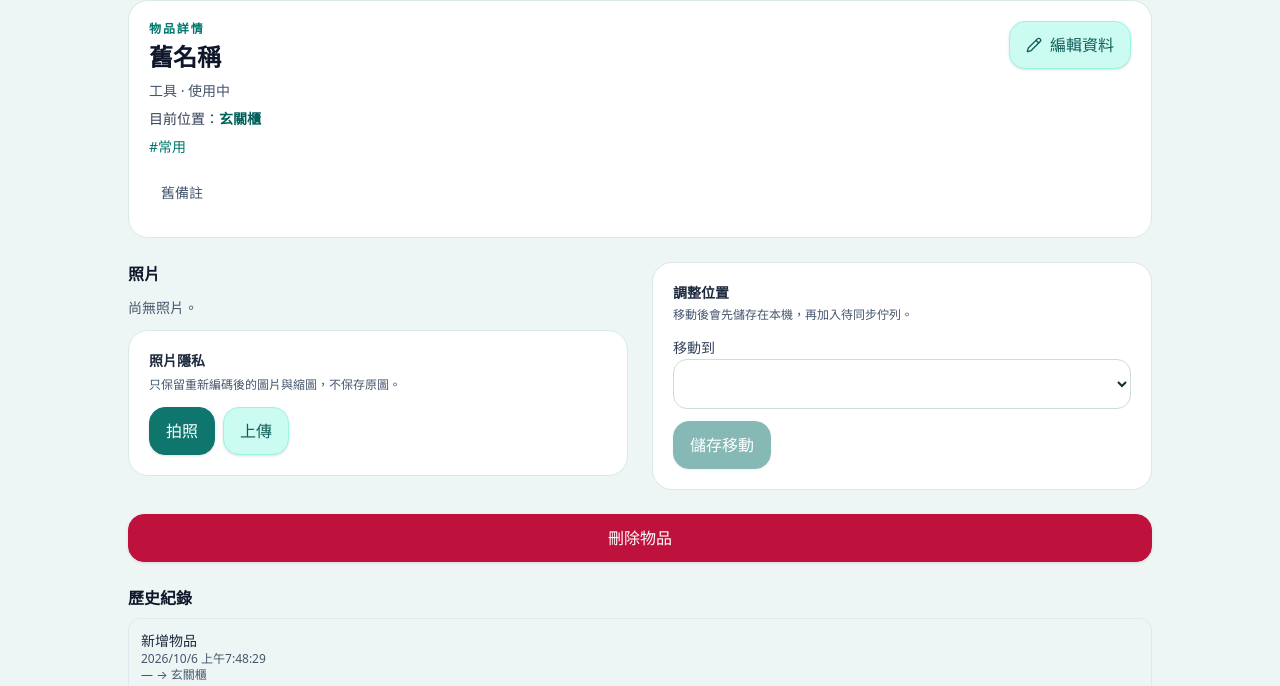
Test: item detail editing › opens populated fields and saves updated basic information
This screenshot has width=1280, height=686.
Check: the heading "舊名稱" is shown, box [149,41,221,73]
Click the button "編輯資料" at x=1070, y=45, box [1009,21,1131,69]
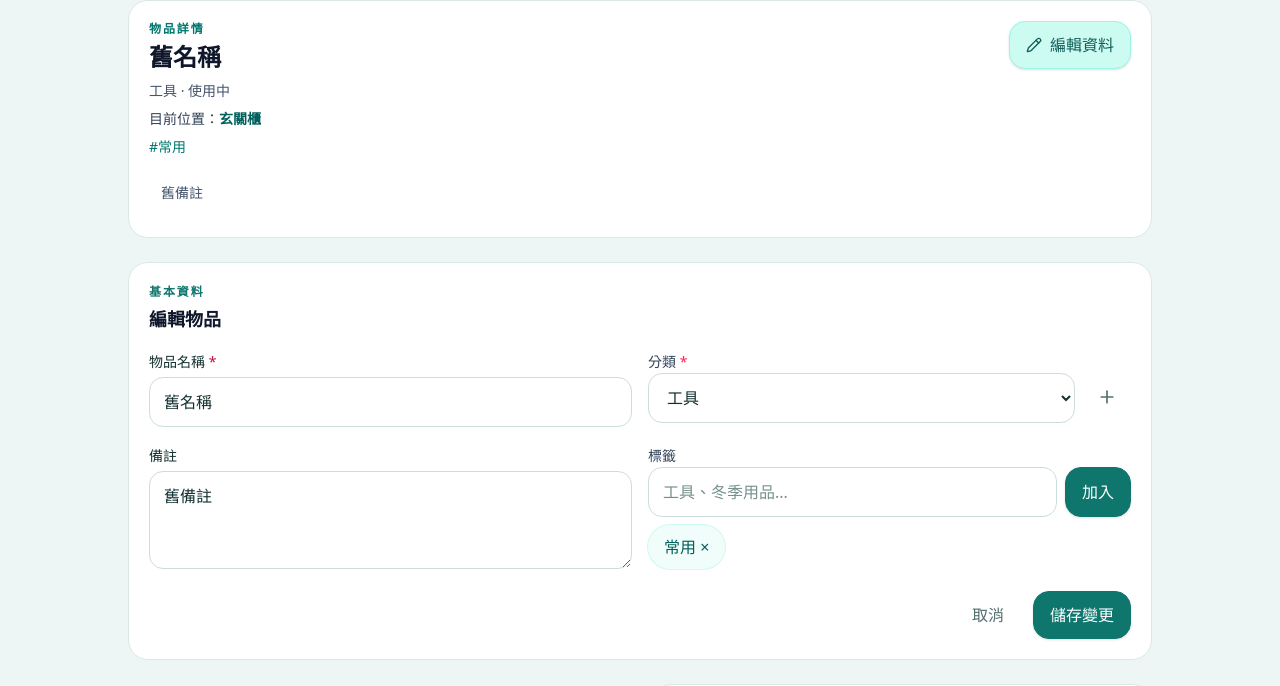
Check: the field labelled "物品名稱 *" holds "舊名稱"
Check: the dropdown labelled "分類 *" shows "工具", box [648,373,1075,423]
Replace the text in the field labelled "物品名稱 *" with "新名稱" at x=390, y=402, box [149,377,632,427]
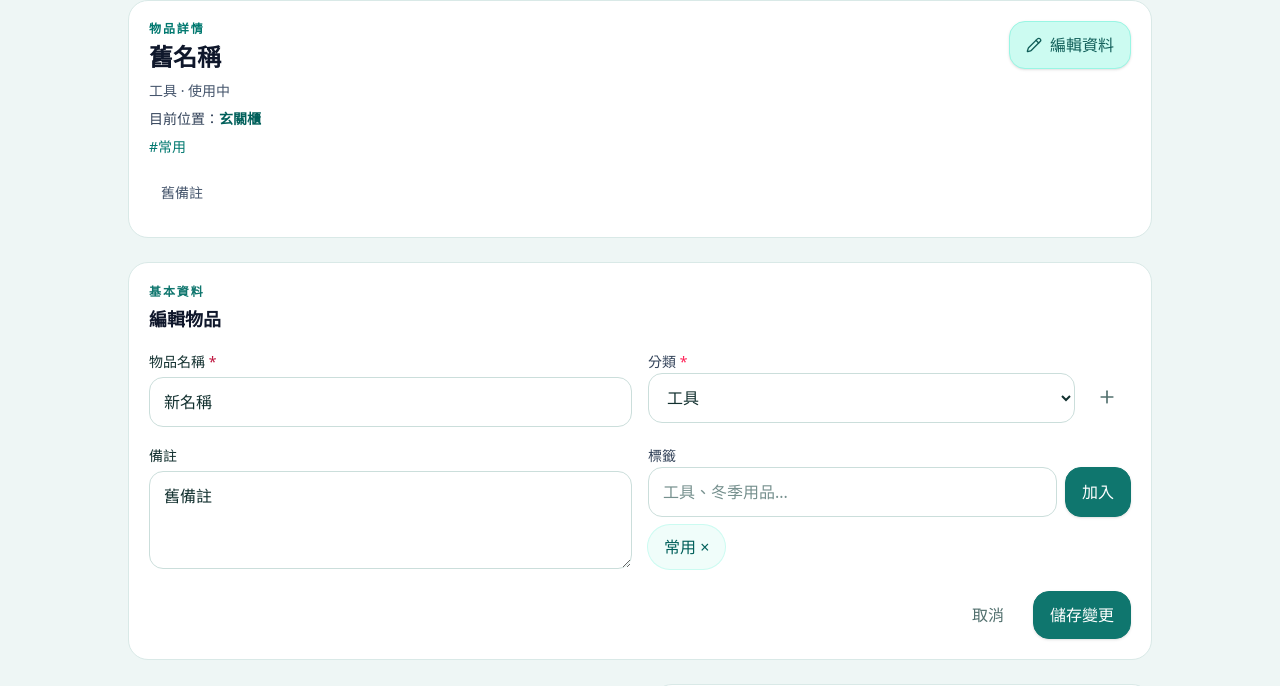
Replace the text in the text box labelled "備註" with "新備註" at x=390, y=520, box [149,471,632,569]
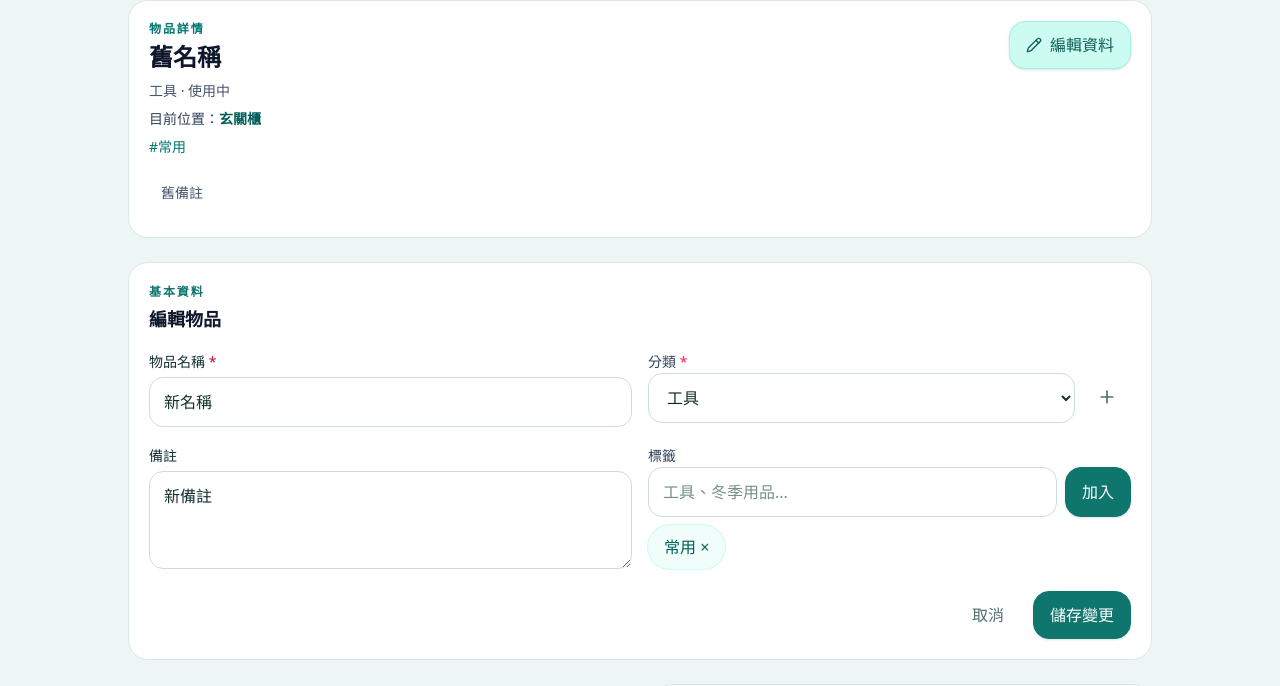
Click the button "儲存變更" at x=1082, y=615, box [1033,591,1131,639]
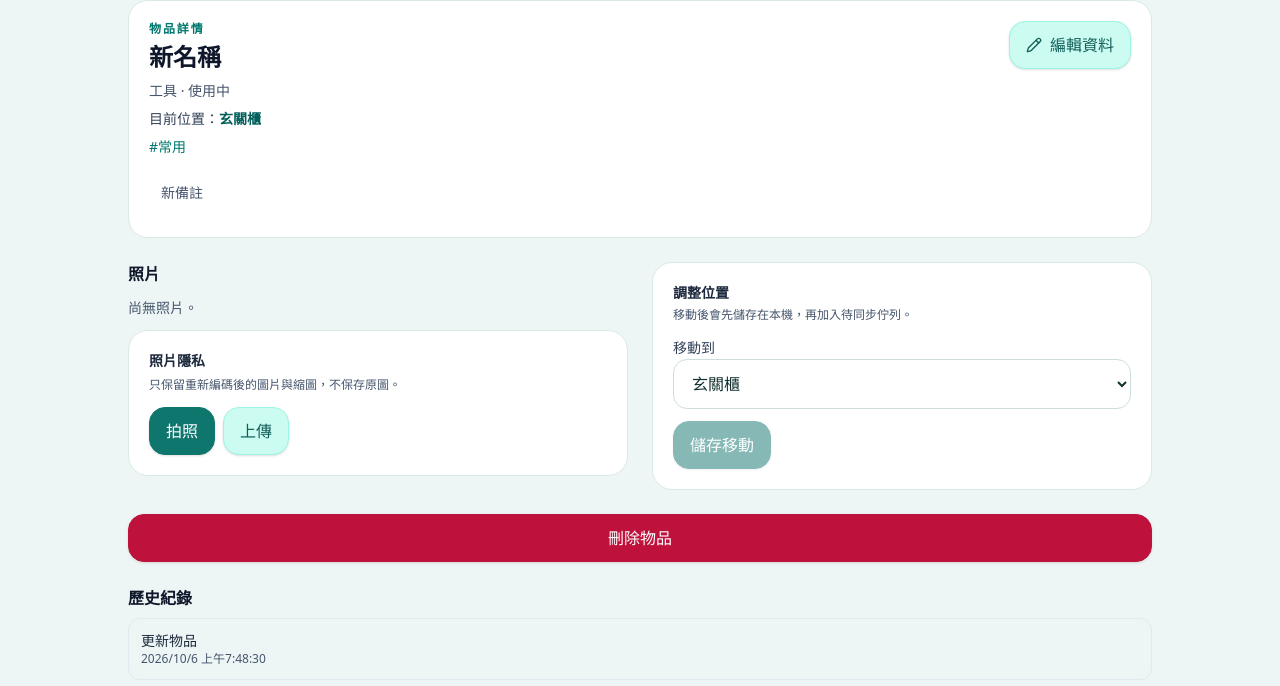
Check: the heading "新名稱" is shown, box [149,41,221,73]
